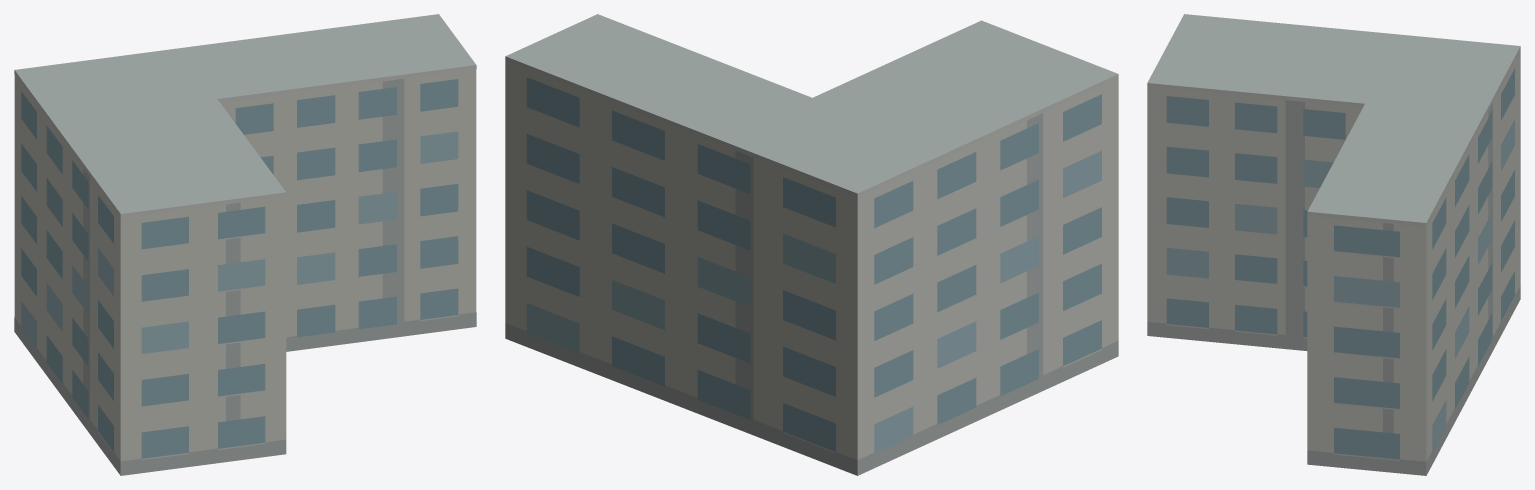
Rendered from residential-c892d161-507b-4160-86ee-4395b6504f81.glb.
The picture shows the model from 3 angles, left to right: view 1: azimuth 30°, elevation 25°; view 2: azimuth 150°, elevation 25°; view 3: azimuth 270°, elevation 25°; orthographic projection. The views are drawn at different scales.
Parts seen in each view (by area): view 1: residential-c892d161-507b-4160-86ee-4395b6504f81.tmp; view 2: residential-c892d161-507b-4160-86ee-4395b6504f81.tmp; view 3: residential-c892d161-507b-4160-86ee-4395b6504f81.tmp.
Part boxes in pixels (x1=…): residential-c892d161-507b-4160-86ee-4395b6504f81.tmp: x1=14, y1=14, x2=476, y2=475; residential-c892d161-507b-4160-86ee-4395b6504f81.tmp: x1=505, y1=14, x2=1118, y2=475; residential-c892d161-507b-4160-86ee-4395b6504f81.tmp: x1=1147, y1=14, x2=1520, y2=475.
Bounding box in the file's own units: 27.04 × 15.25 × 20.42.
